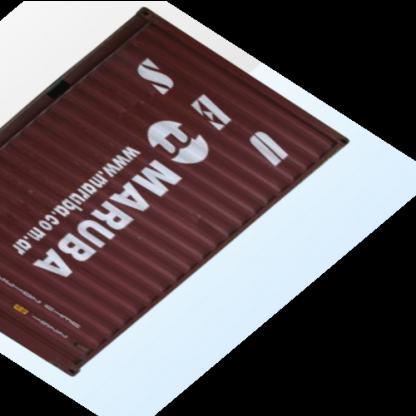Damage: (110, 84, 170, 122), (8, 168, 38, 214), (188, 210, 216, 226)
